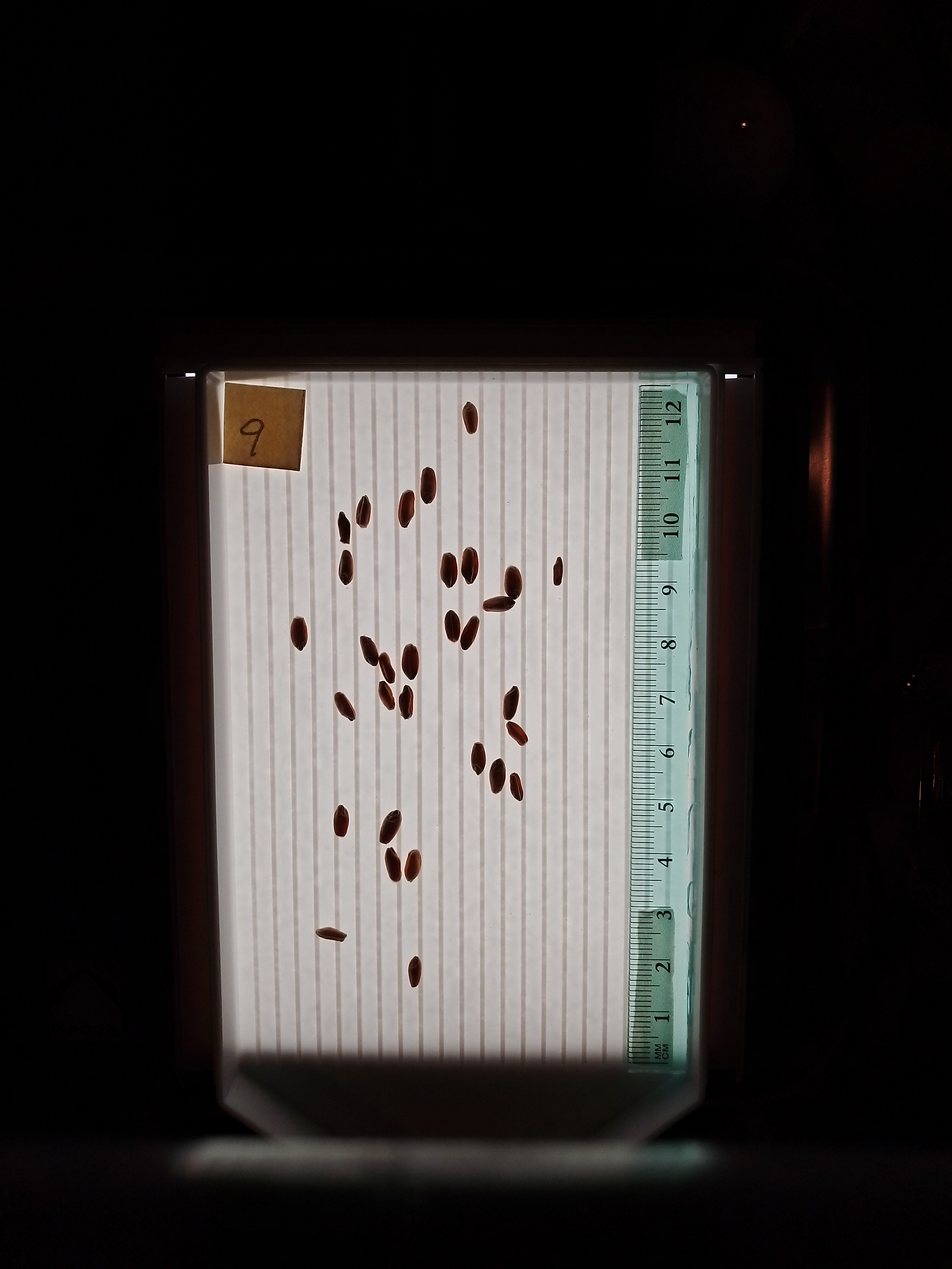seed mask: (380, 810, 401, 844), (461, 547, 479, 584), (460, 616, 479, 651), (440, 553, 458, 588), (398, 490, 415, 527), (420, 468, 437, 504), (402, 645, 420, 679), (290, 617, 308, 650), (360, 636, 379, 666), (335, 693, 355, 721), (505, 566, 522, 598), (503, 686, 519, 720), (490, 759, 506, 793), (404, 850, 421, 882), (334, 805, 350, 837), (339, 551, 354, 585), (484, 596, 514, 613), (462, 403, 478, 434), (356, 496, 372, 527), (379, 653, 395, 684), (386, 849, 401, 882), (399, 686, 414, 719), (316, 926, 346, 942), (445, 611, 460, 642), (507, 722, 527, 745), (471, 744, 486, 774), (408, 957, 422, 988), (379, 683, 394, 710), (510, 774, 524, 801)
